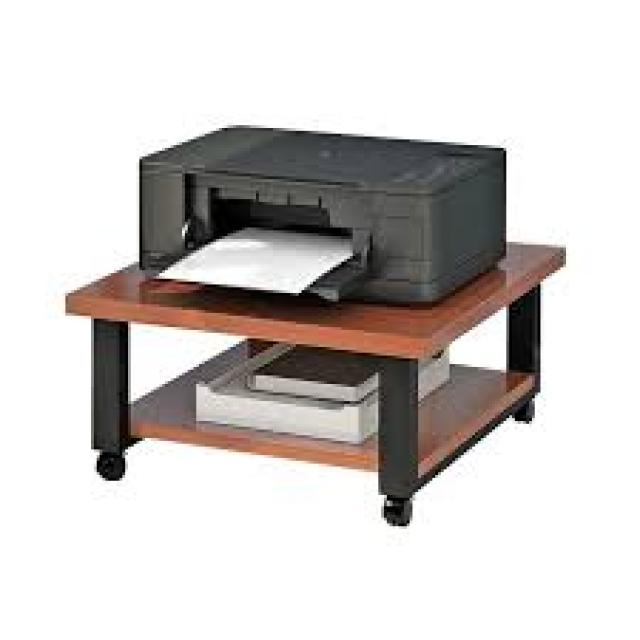printer: (136, 122, 506, 308)
